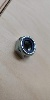Nut: (12, 35, 38, 60)
